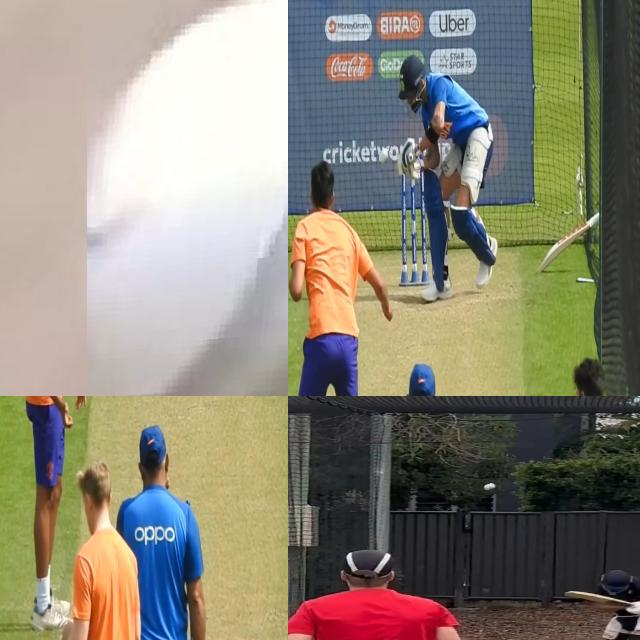Cricket ball: (87, 0, 288, 396), (379, 146, 392, 168), (483, 483, 497, 491)
Stumps: (399, 176, 428, 292)
